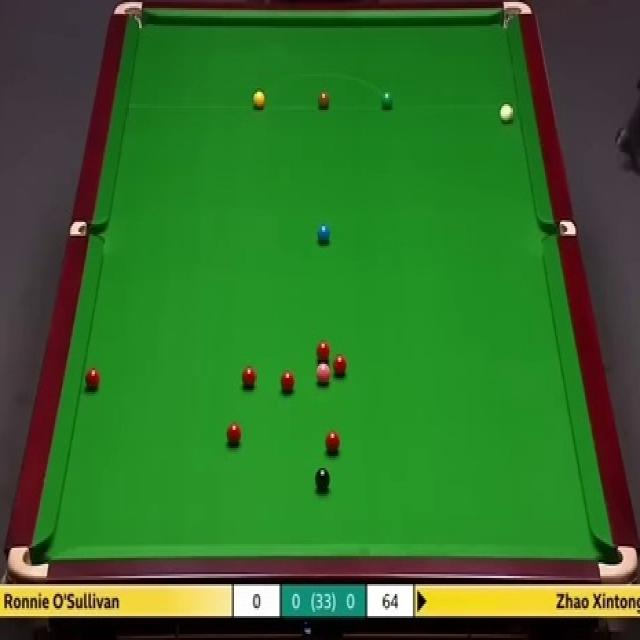pocket: (596, 543, 638, 583), (6, 541, 50, 577), (502, 0, 531, 32), (115, 0, 143, 29), (541, 218, 577, 238), (69, 223, 103, 237)
